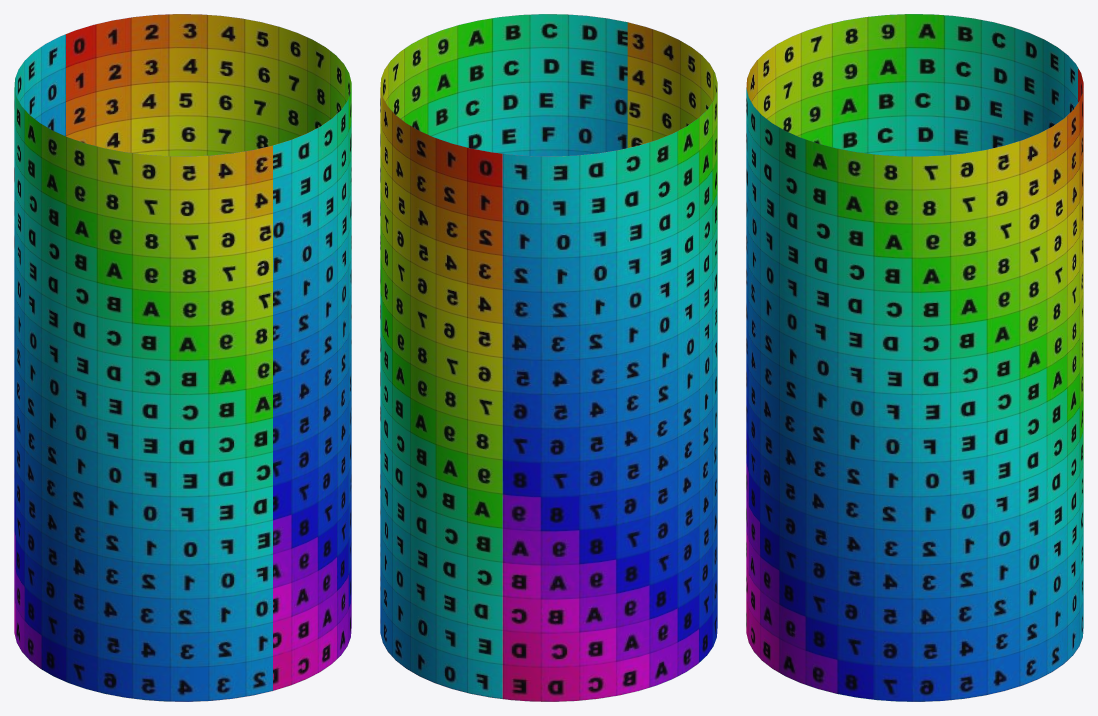
Rendered from Tunnel_straight_genius.dae.
3 renders of one model, left to right at view 1: azimuth 30°, elevation 25°; view 2: azimuth 150°, elevation 25°; view 3: azimuth 270°, elevation 25°, orthographic.
Parts seen in each view (by area): view 1: SketchUp; view 2: SketchUp; view 3: SketchUp.
Part boxes in pixels (x1=…): SketchUp: x1=14, y1=14, x2=351, y2=701; SketchUp: x1=380, y1=14, x2=717, y2=701; SketchUp: x1=746, y1=14, x2=1083, y2=701.
Size of the model in its own units: 80.26 by 80.26 by 143.
